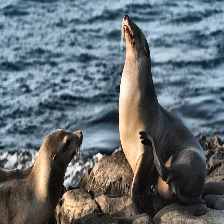seal: (0, 129, 84, 224), (0, 129, 83, 224)
